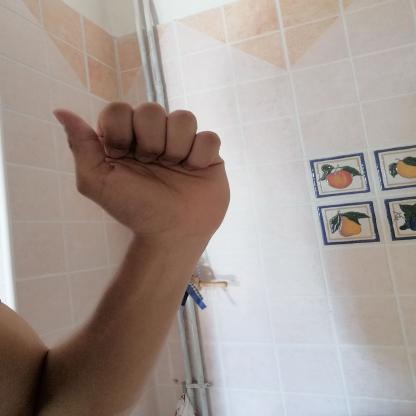DAD: (33, 89, 248, 251)
